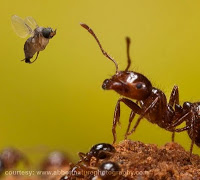phorid fly: (8, 11, 62, 71)
